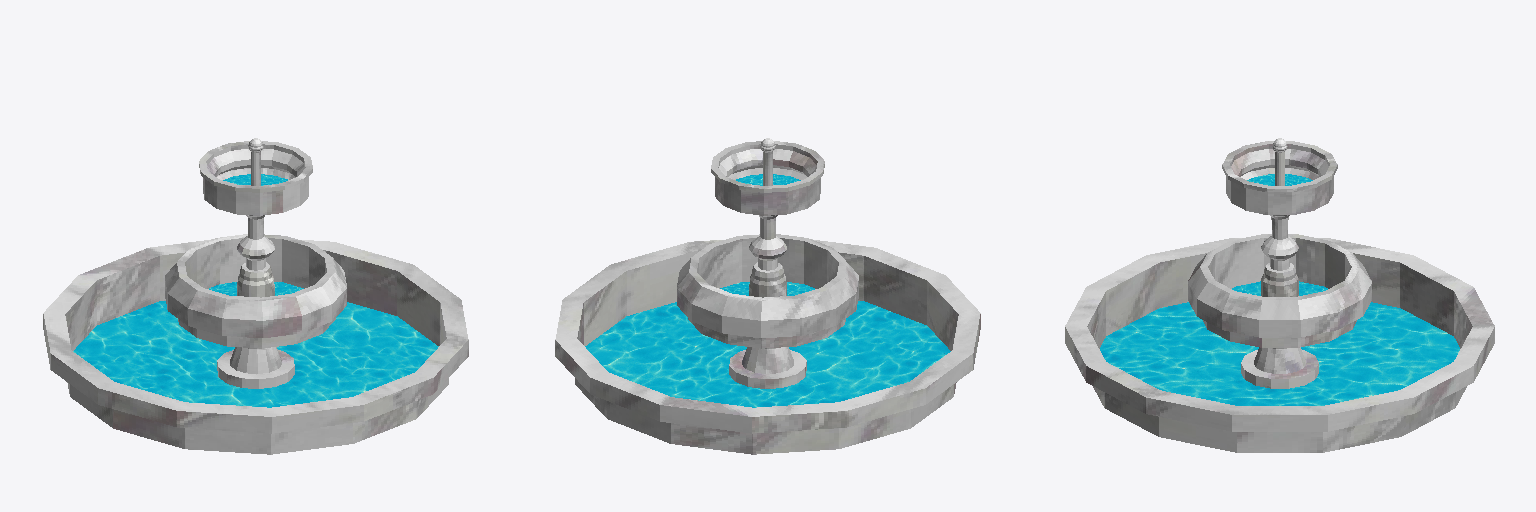
The picture shows the model from 3 angles: view 1: azimuth 30°, elevation 25°; view 2: azimuth 150°, elevation 25°; view 3: azimuth 270°, elevation 25°; orthographic projection.
Parts seen in each view (by area): view 1: fuente; view 2: fuente; view 3: fuente.
Part boxes in pixels (bbox=[...]): fuente: bbox=[43, 138, 468, 454]; fuente: bbox=[555, 138, 980, 454]; fuente: bbox=[1065, 138, 1494, 452].
Size of the model in its own units: 77.01 by 47.41 by 78.99.
2 materials, 2 textured.